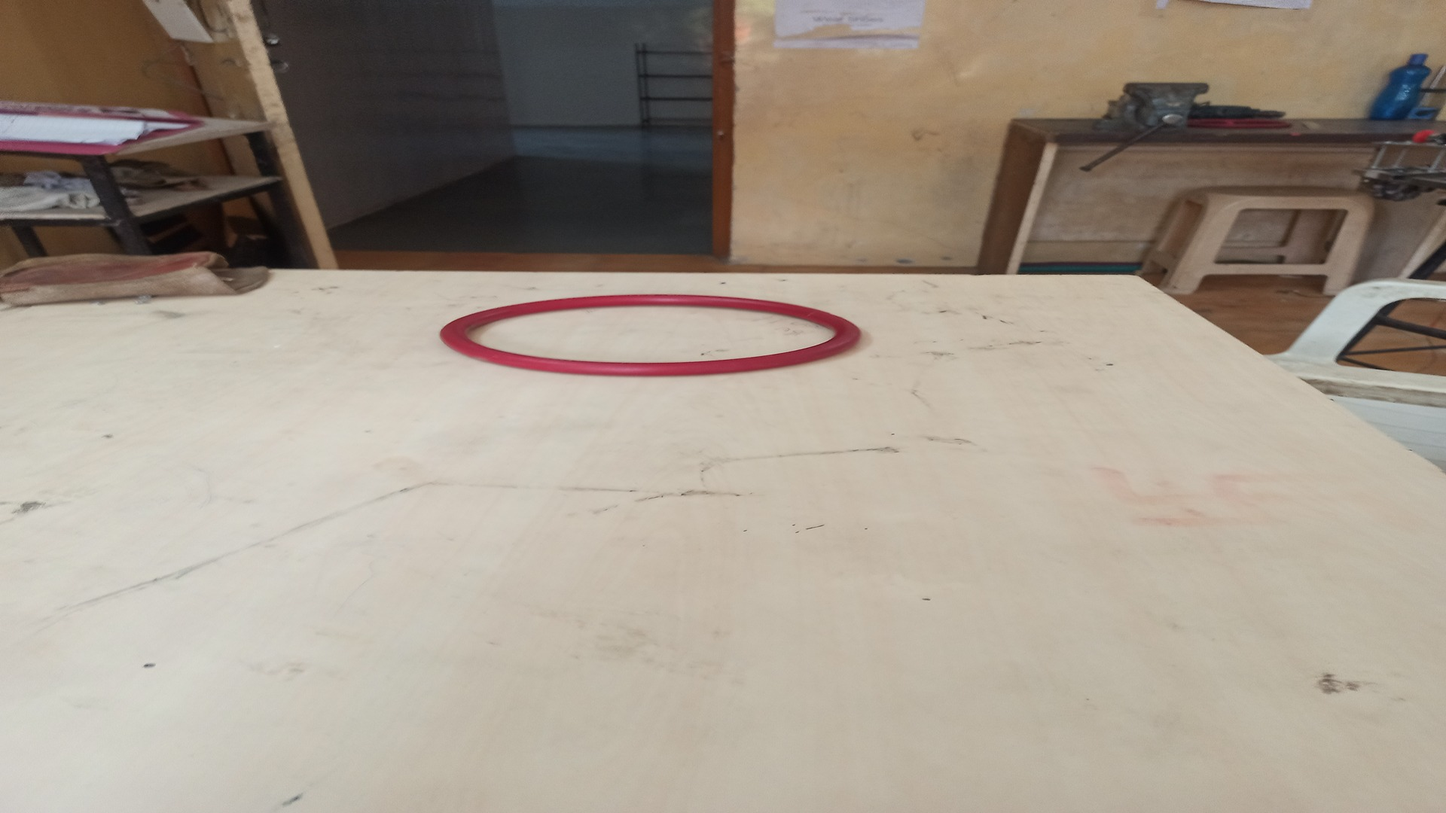Red ring: (438, 293, 859, 377)
